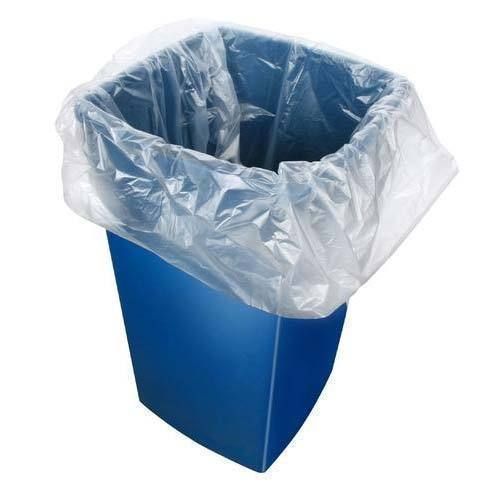plastic_bagwdw: (34, 8, 464, 335)
